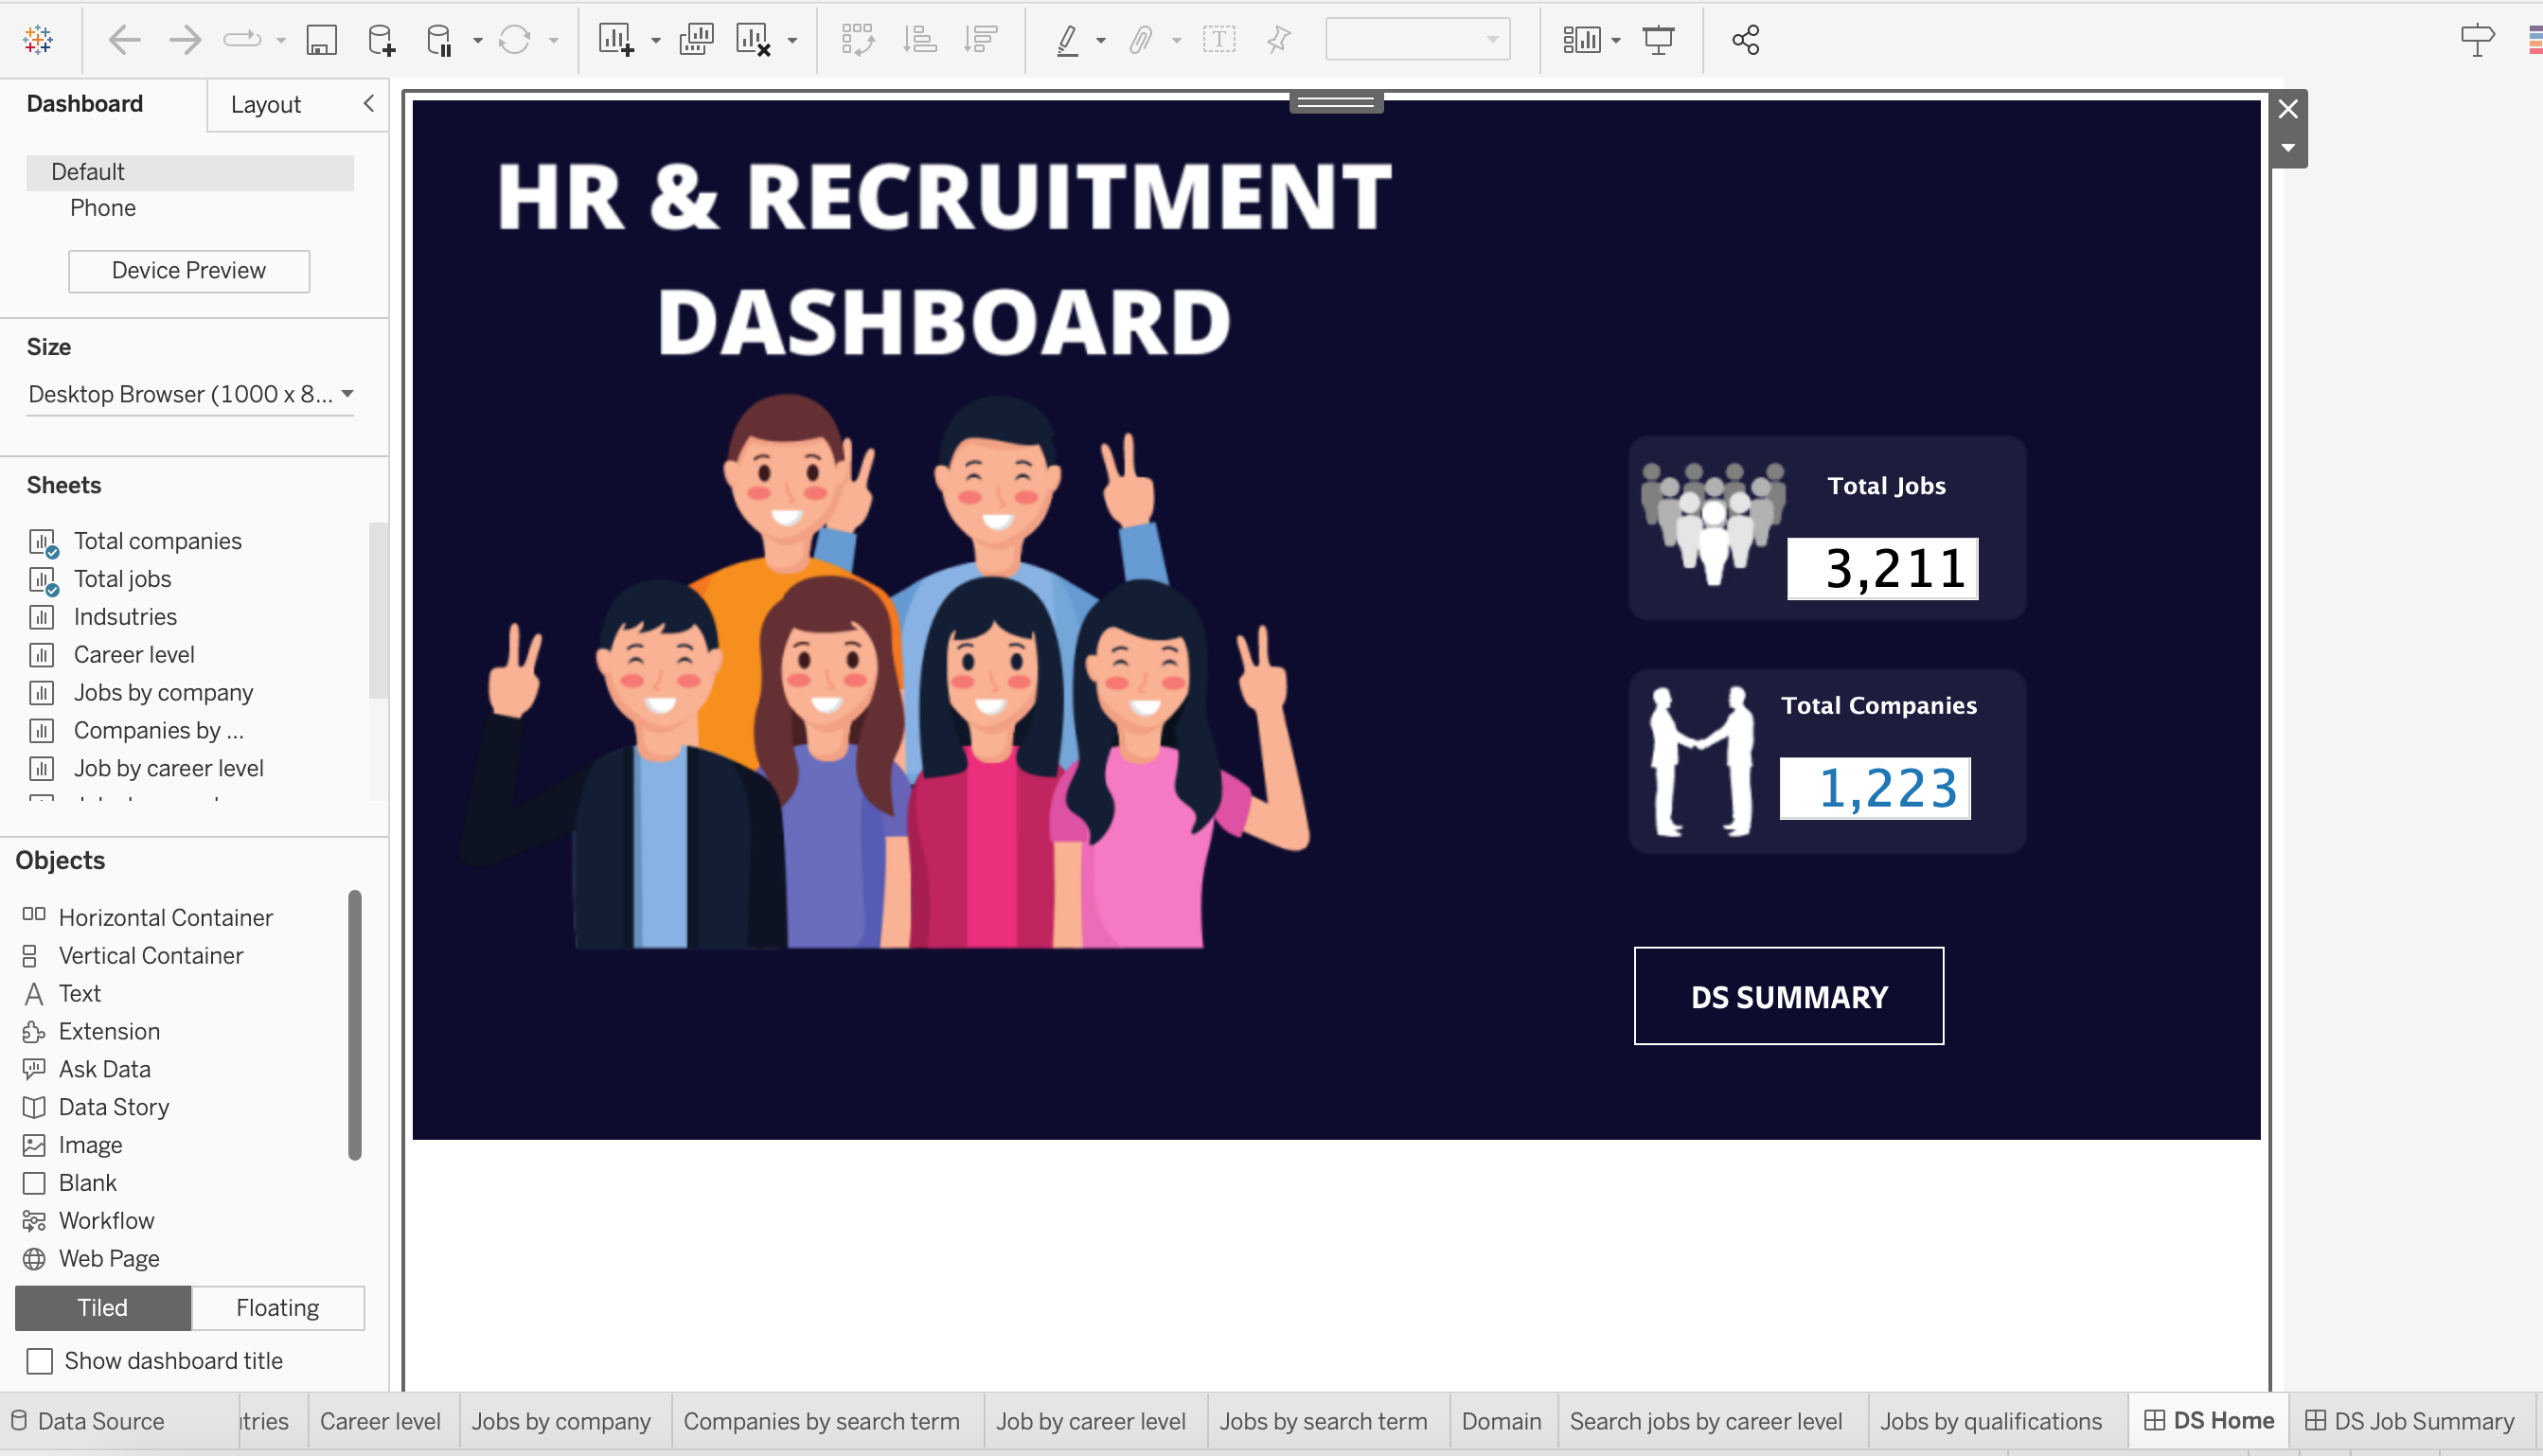

The dashboard page shown, as its layout file describes it:
{"tool":"tableau","page":{"name":"DS Home","canvas":[1000,800],"ordinal":0},"visuals":[{"type":"image","param":"Image/Home Page.png","box":[8,8,984,784]},{"type":"text","box":[732,197,118,38]},{"type":"worksheet","title":"Total jobs","mark":"Automatic","box":[738,243,109,41]},{"type":"text","box":[732,317,110,30]},{"type":"worksheet","title":"Total companies","mark":"Automatic","box":[734,359,106,34]},{"type":"dashboard-object","box":[657,459,164,52]},{"type":"dashboard-object","box":[145,634,164,52]}]}

Visuals, with their boxes on the page's 1000x800 design canvas (x1, y1, x2, y2). These are canvas units, not pixel positions in the 2543x1456 screenshot, which may show the page scaled, cropped or inside an application window:
image: box(8, 8, 992, 792)
text: box(732, 197, 850, 235)
"Total jobs" worksheet: box(738, 243, 847, 284)
text: box(732, 317, 842, 347)
"Total companies" worksheet: box(734, 359, 840, 393)
dashboard-object: box(657, 459, 821, 511)
dashboard-object: box(145, 634, 309, 686)
